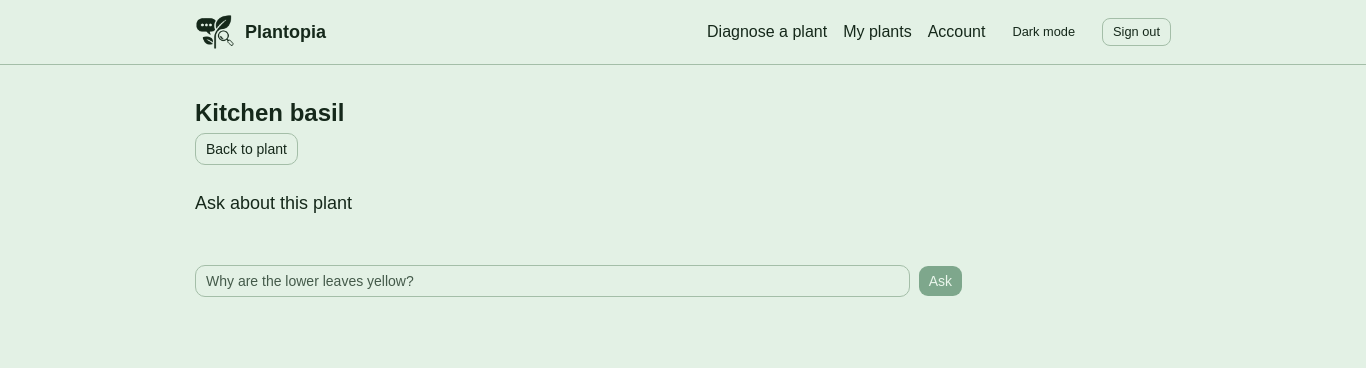
Test: asking something › says the reply may still exist when the connection is lost
In the field named "Your question": (552, 281) [195, 265, 910, 297], type "Why are the leaves yellow?"
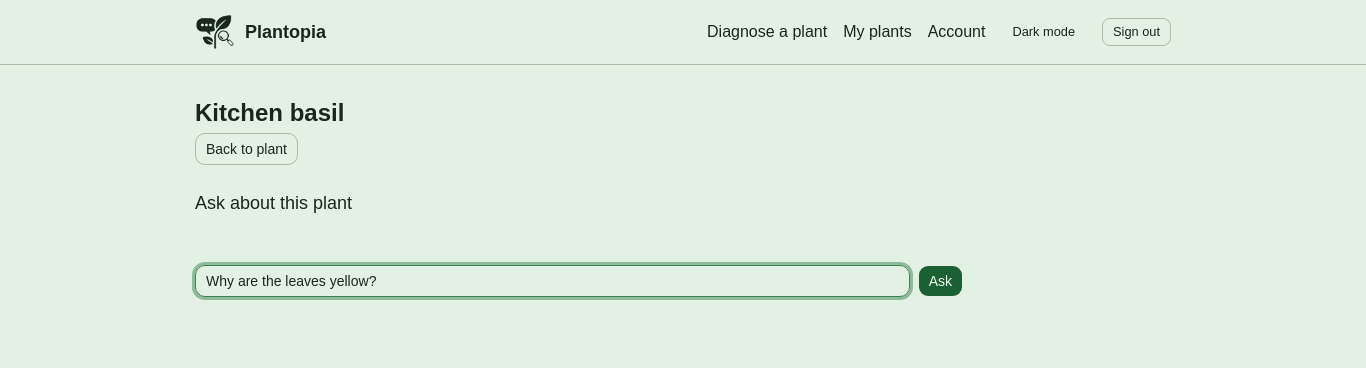
Click the button "Ask": (940, 281) [918, 265, 963, 297]
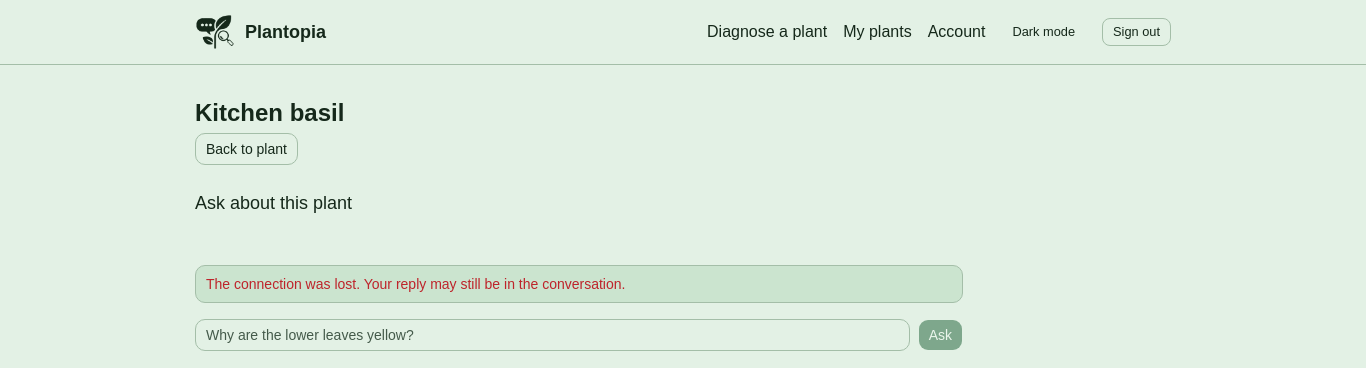
Expected: the message shows "may still be", [206, 276, 626, 292]
